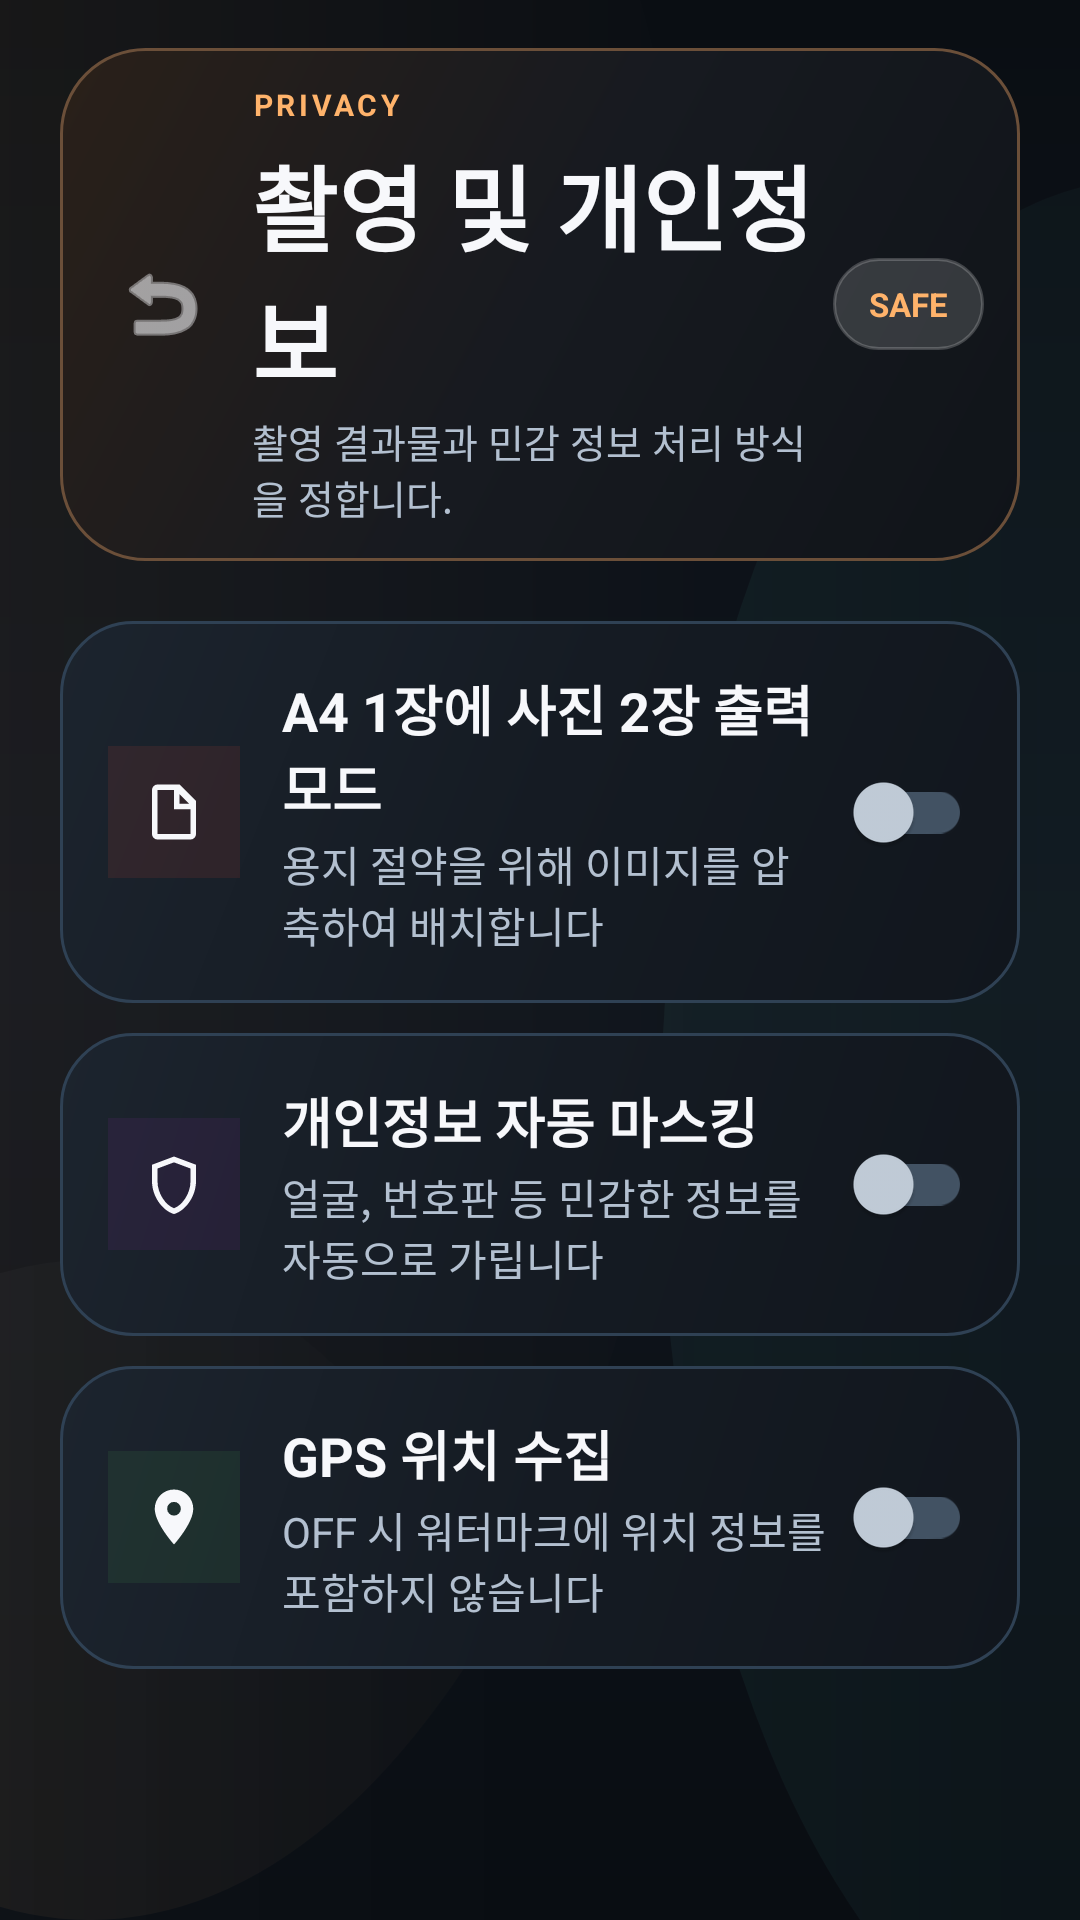

Icon bounding boxes for this 1080 × 1920 phone screenshot, format (left=x1, top=y1, right=x2, bottom=y2):
insert drive file: (left=152, top=784, right=196, bottom=840)
location: (left=154, top=1489, right=194, bottom=1544)
revert: (left=129, top=273, right=198, bottom=336)
shield: (left=152, top=1156, right=196, bottom=1214)
